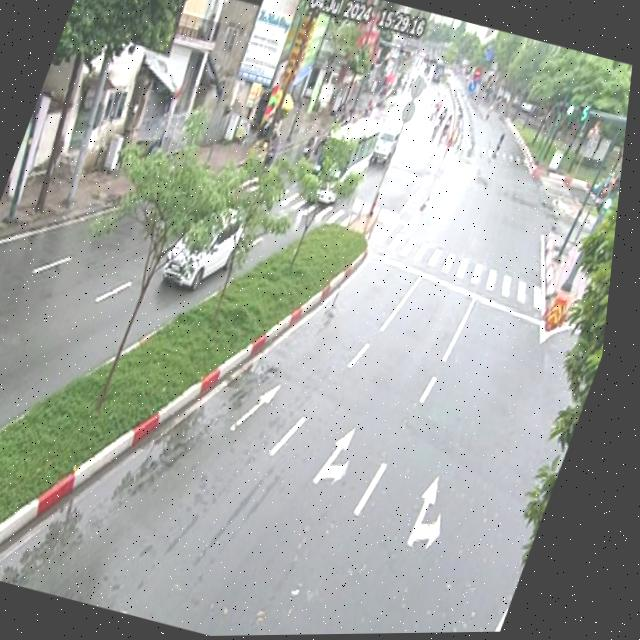Green: (600, 185, 624, 231), (552, 100, 578, 122)
